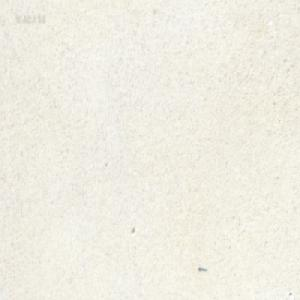Nail: (197, 264, 207, 271)
